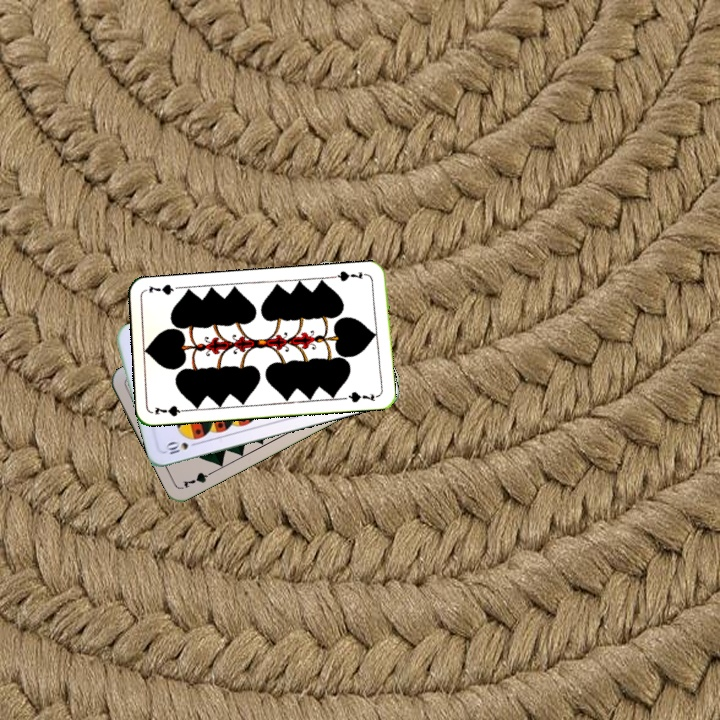G7: (179, 466, 218, 491), (151, 401, 191, 419), (330, 267, 371, 284)
S10: (161, 438, 201, 457)
